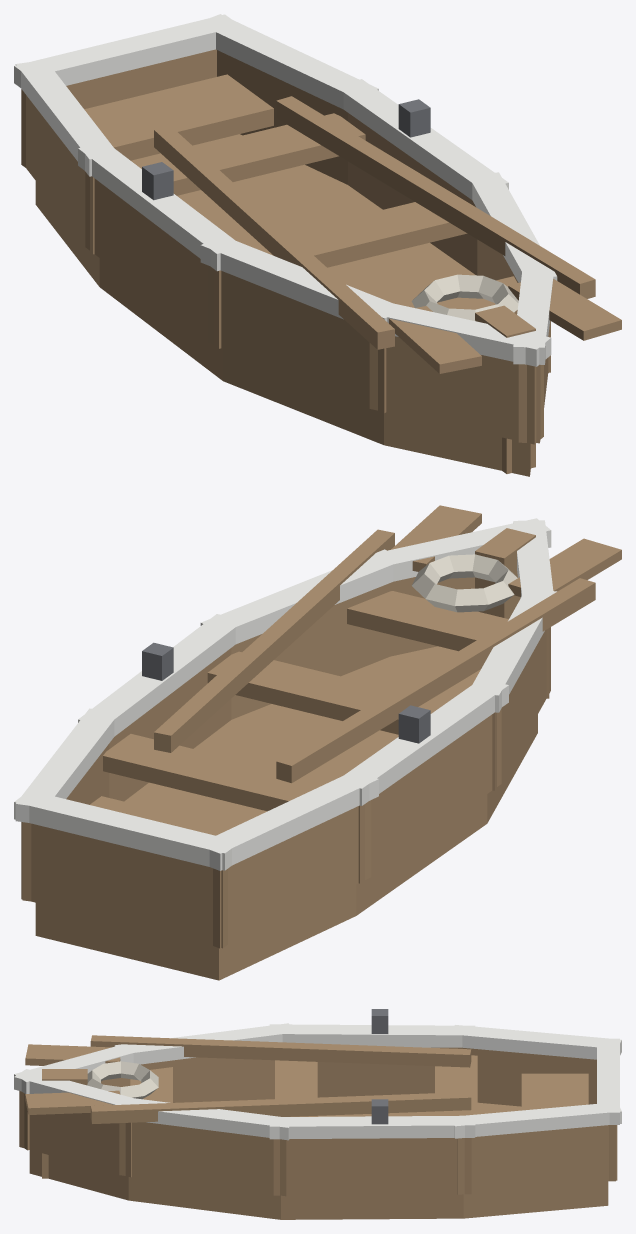
Rendered from 2-lighthouse-and-rocky-coast-rowing-boat-a50f4fb4.glb.
3 renders of one model, top to bottom at view 1: azimuth 30°, elevation 25°; view 2: azimuth 150°, elevation 25°; view 3: azimuth 270°, elevation 25°, orthographic. The views are drawn at different scales.
Parts seen in each view (by area): view 1: rowing-boat; view 2: rowing-boat; view 3: rowing-boat.
Boxes of the visible parts, box(x1,y1,x2,y2) form: rowing-boat: box(14, 14, 621, 476); rowing-boat: box(14, 505, 621, 980); rowing-boat: box(14, 1009, 621, 1219).
Bounding box in the file's own units: 1.63 × 0.84 × 3.99.
